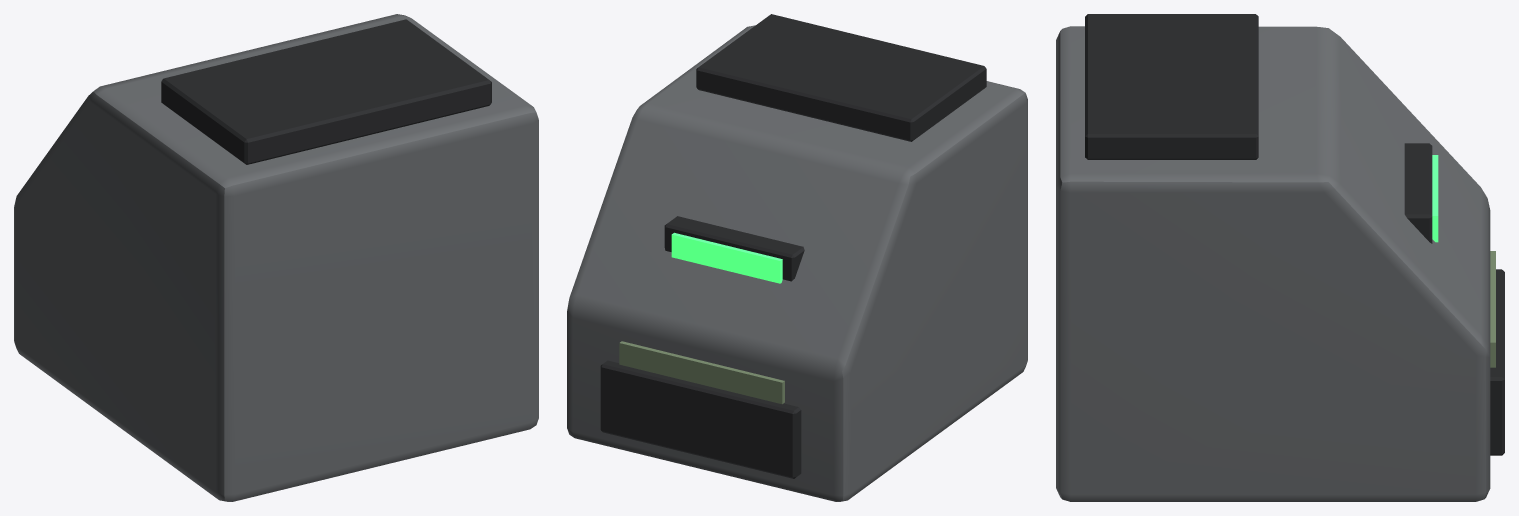
The model's file is prop_note_counter.glb.
The picture shows the model from 3 angles, left to right: view 1: azimuth 30°, elevation 25°; view 2: azimuth 150°, elevation 25°; view 3: azimuth 270°, elevation 25°; orthographic projection. The views are drawn at different scales.
Parts seen in each view (by area): view 1: Counter; view 2: Counter; view 3: Counter.
Part boxes in pixels (box(x1,y1,x2,y2)): Counter: box(14, 14, 538, 501); Counter: box(567, 14, 1027, 501); Counter: box(1056, 14, 1504, 501).
Bounding box in the file's own units: 0.26 × 0.27 × 0.31.
